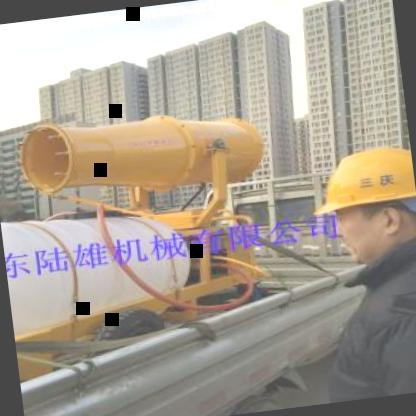helmet: (300, 136, 416, 275)
